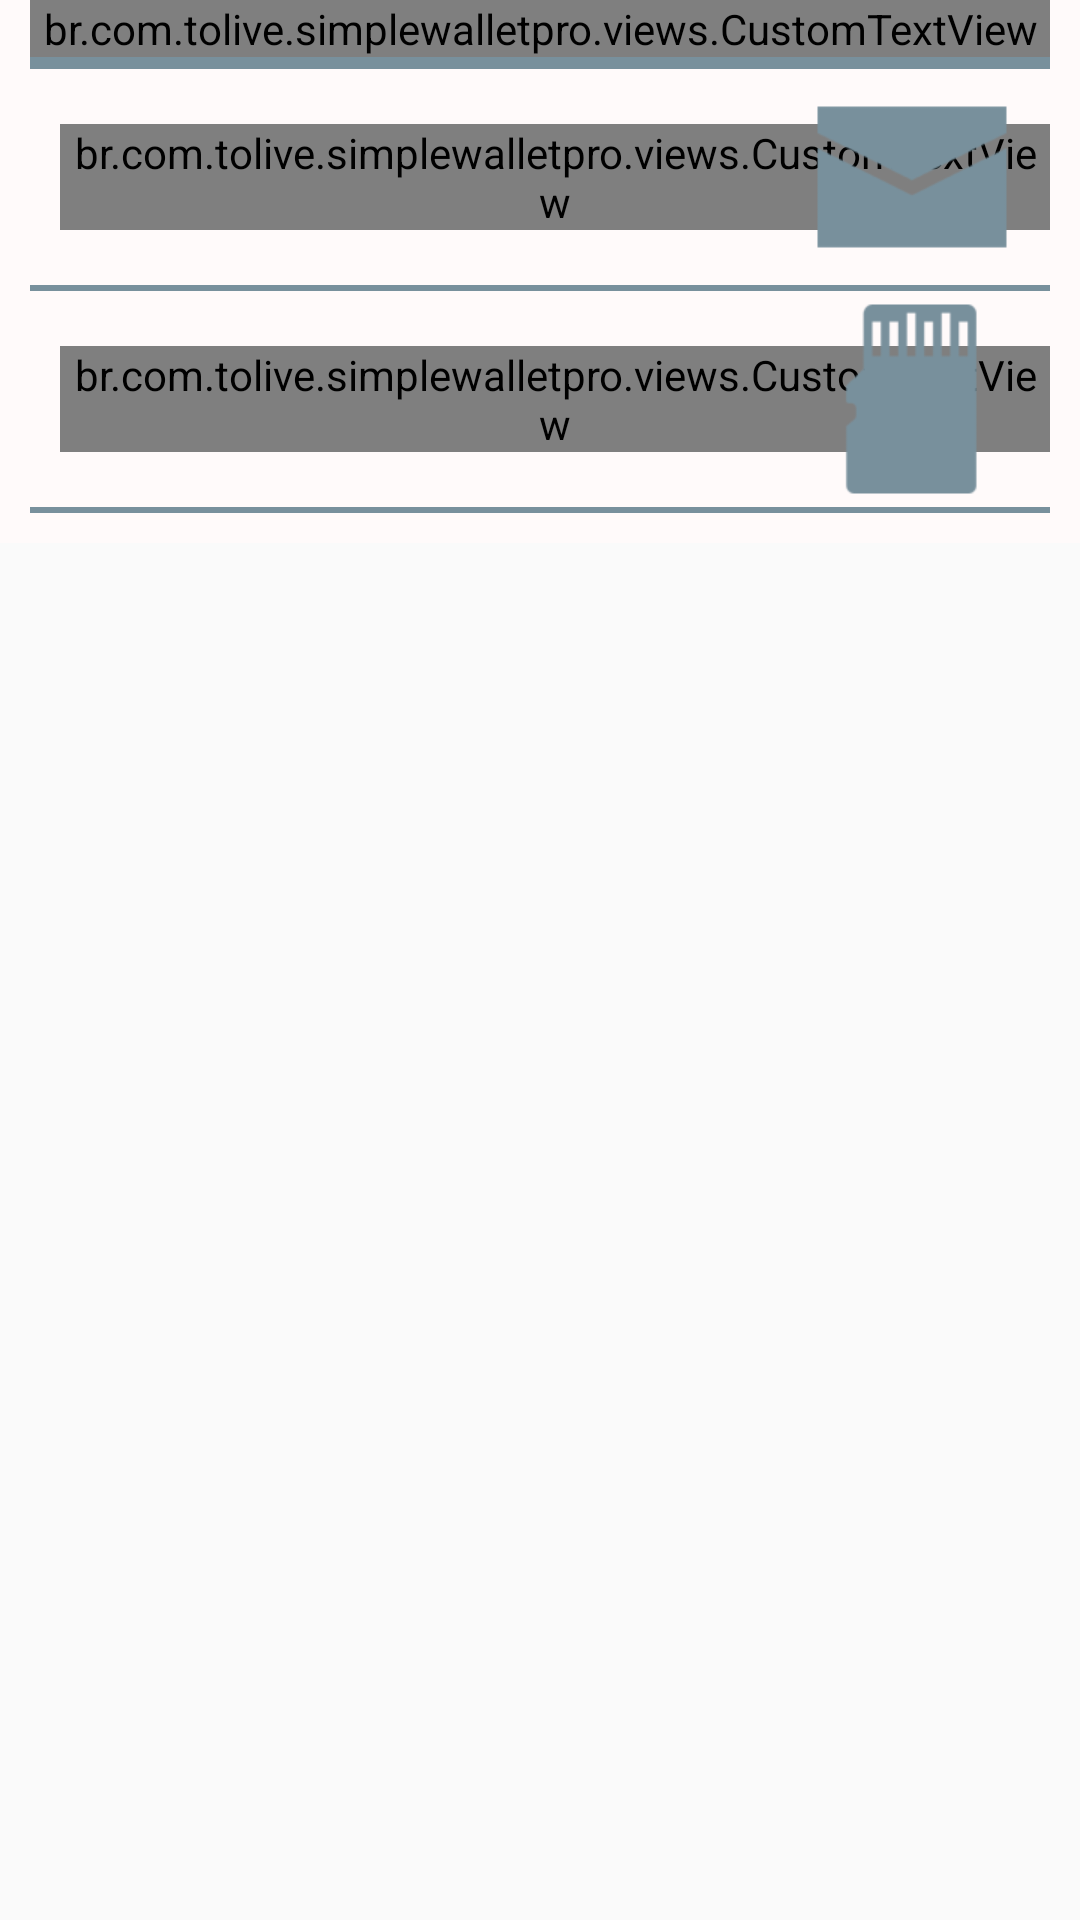

Point at icon controls on the screen. Image size 1080px×1920px, points as (x,y).
store mail: (912,177)
store sd: (912,399)
